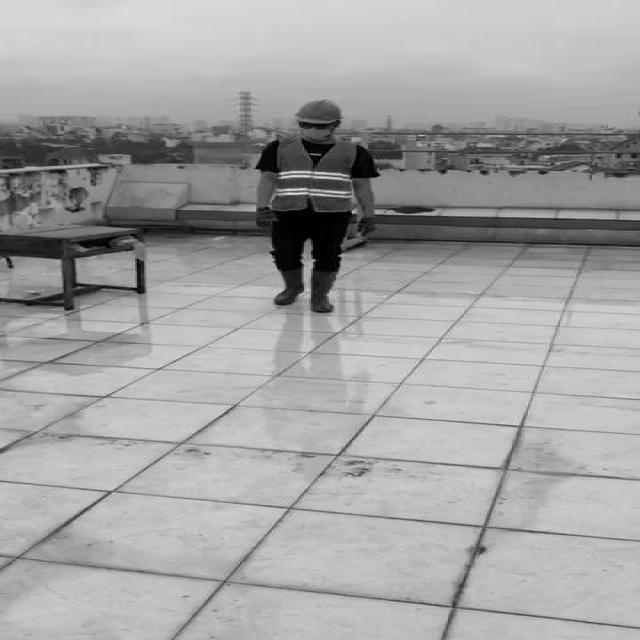boots: (306, 266, 341, 313), (270, 266, 308, 306)
face_mask: (297, 120, 336, 140)
glasses: (293, 120, 338, 132)
hand_glove: (252, 206, 272, 229), (357, 216, 379, 236)
head_helmet: (291, 98, 349, 126)
person: (250, 93, 381, 320)
vest: (272, 136, 356, 214)
